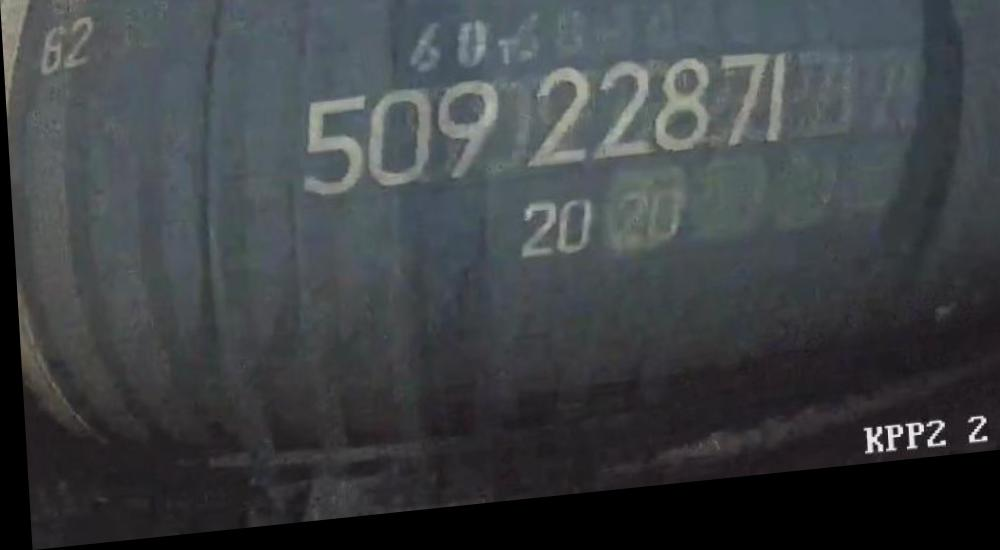Wagon-number: (290, 57, 795, 210)
